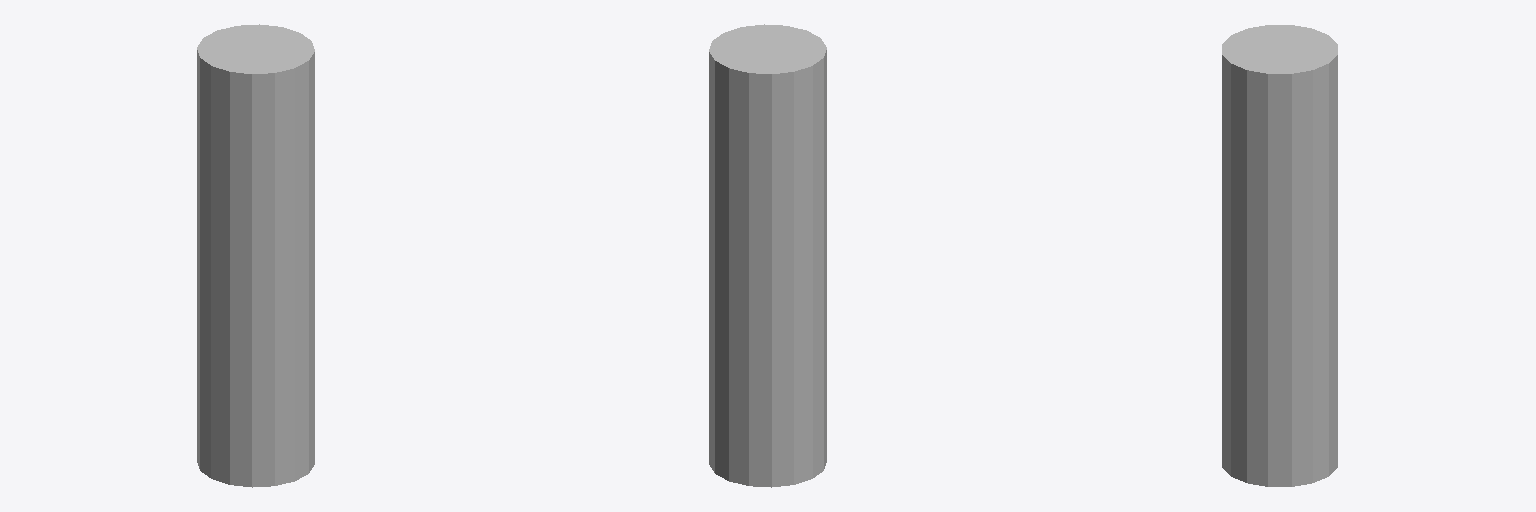
The model's file is Prince_LFO_A_Collider.obj.
3 views of the same model, side by side, from view 1: azimuth 30°, elevation 25°; view 2: azimuth 150°, elevation 25°; view 3: azimuth 270°, elevation 25° (orthographic).
Visible parts, largest first — view 1: Prince_LFO_A_Collider; view 2: Prince_LFO_A_Collider; view 3: Prince_LFO_A_Collider.
Part boxes in pixels (left/top/right/bottom): Prince_LFO_A_Collider: left=197, top=24, right=314, bottom=487; Prince_LFO_A_Collider: left=709, top=24, right=826, bottom=487; Prince_LFO_A_Collider: left=1222, top=25, right=1337, bottom=486.
Bounding box in the file's own units: 1.88 × 7.36 × 1.88.